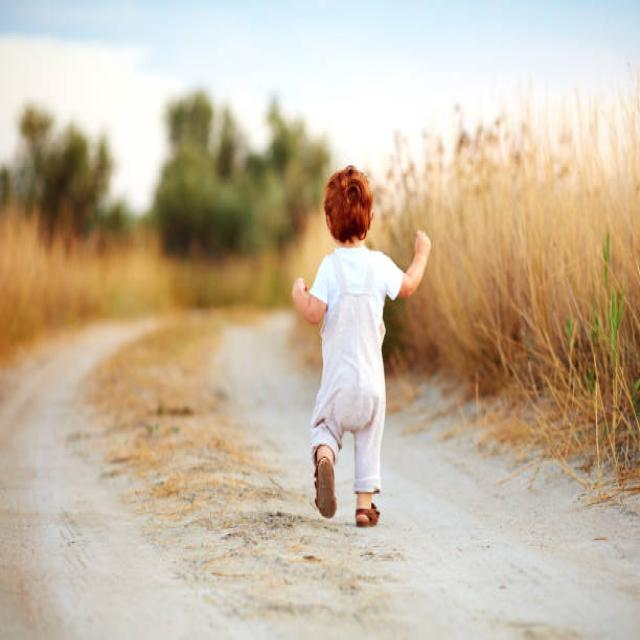Person: (294, 167, 432, 527)
